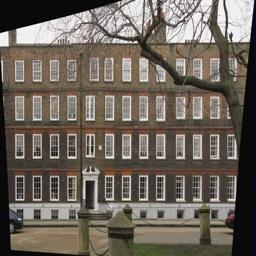building: (0, 36, 256, 218)
